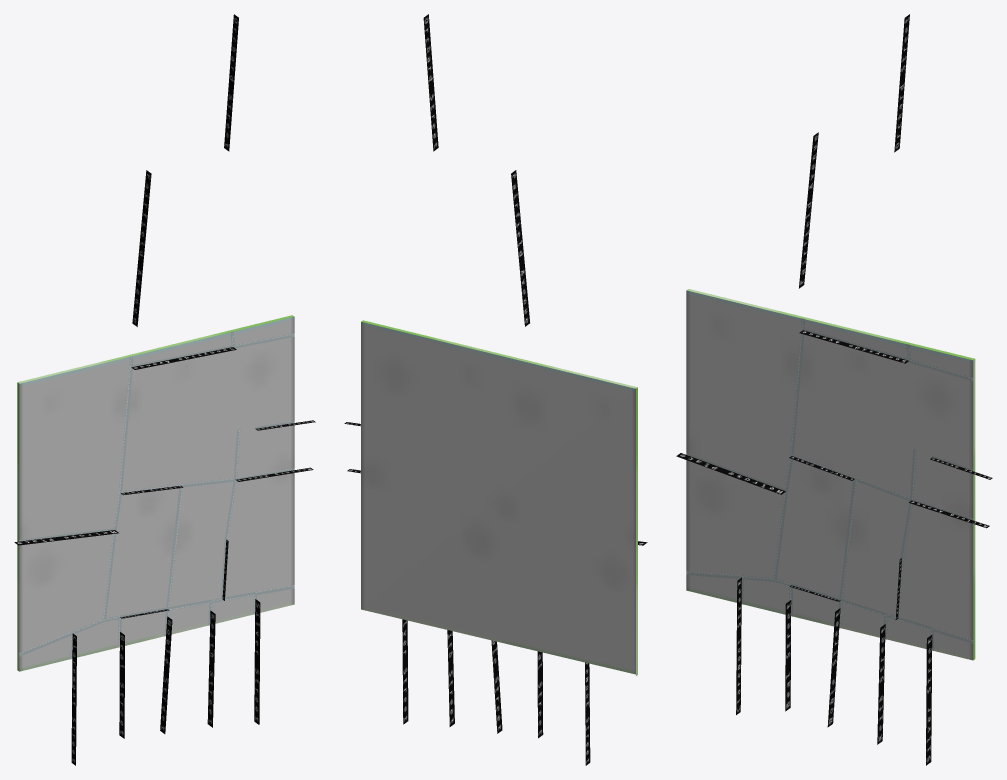
The model's file is stamford40.gltf.
3 renders of one model, left to right at view 1: azimuth 30°, elevation 25°; view 2: azimuth 150°, elevation 25°; view 3: azimuth 330°, elevation 25°, orthographic. The views are drawn at different scales.
Visible parts, largest first — view 1: POLYGON, FONT, POLYLINE; view 2: POLYGON, FONT; view 3: POLYGON, FONT, POLYLINE.
Boxes of the visible parts, x1,y1,x2,y2 form: POLYGON: [17, 315, 294, 671]; FONT: [14, 14, 315, 765]; POLYLINE: [19, 331, 294, 659]; POLYGON: [361, 320, 637, 675]; FONT: [344, 14, 647, 765]; POLYGON: [686, 289, 975, 660]; FONT: [676, 14, 992, 765]; POLYLINE: [686, 318, 973, 650].
Size of the model in its own units: 664 by 1512 by 28.
Materials: 2 (2 with a texture image).
